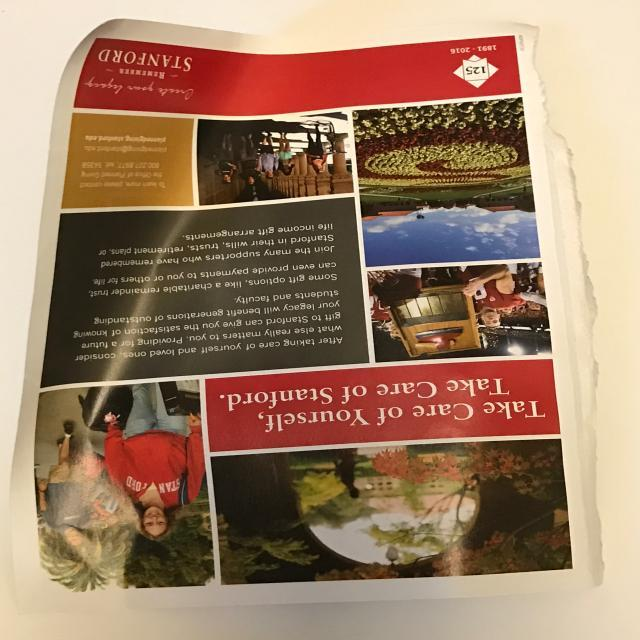paper: (8, 18, 606, 640)
